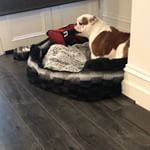puppy: (74, 13, 138, 63)
